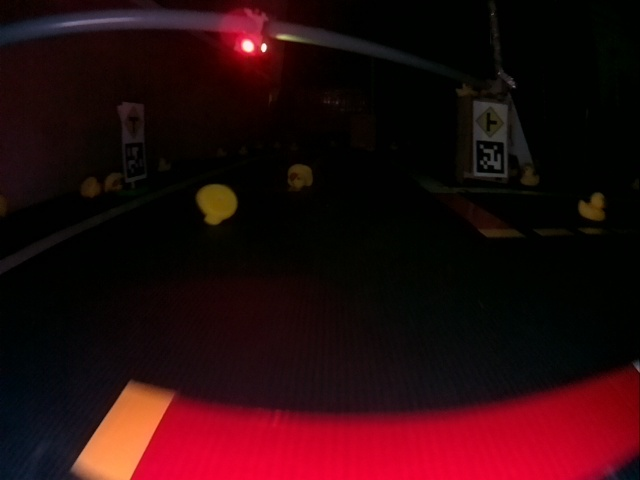Duckie: (198, 184, 236, 224), (577, 193, 605, 222), (288, 165, 313, 188), (520, 165, 539, 187), (81, 178, 99, 197), (106, 173, 122, 193)
Intersection sign: (475, 105, 505, 135), (123, 107, 144, 138)
QR code: (476, 140, 505, 175), (123, 144, 144, 175)
Traffic light: (234, 10, 269, 56)
